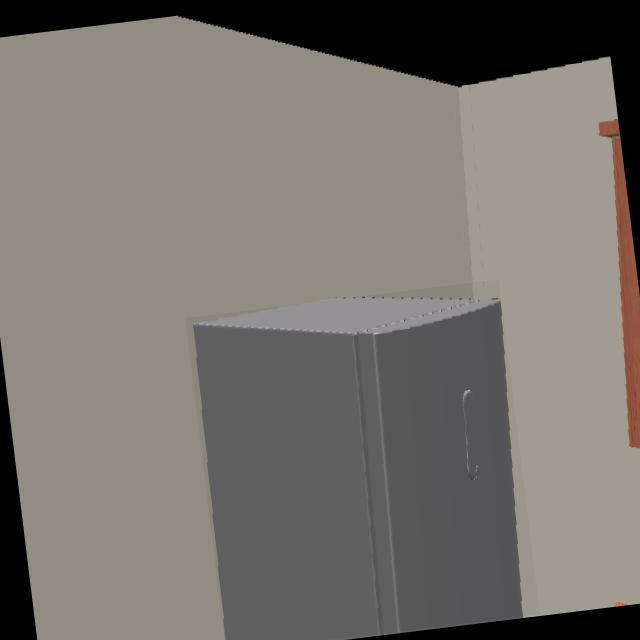fridge: (192, 297, 524, 640)
